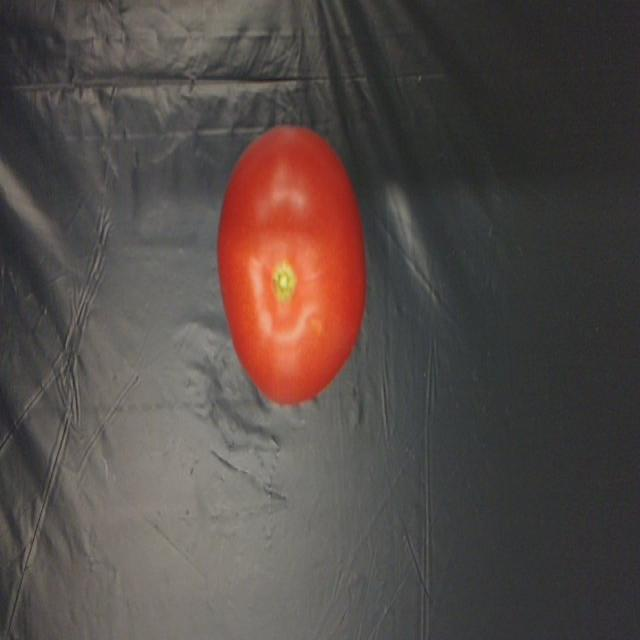kirmizi: (208, 128, 386, 424)
